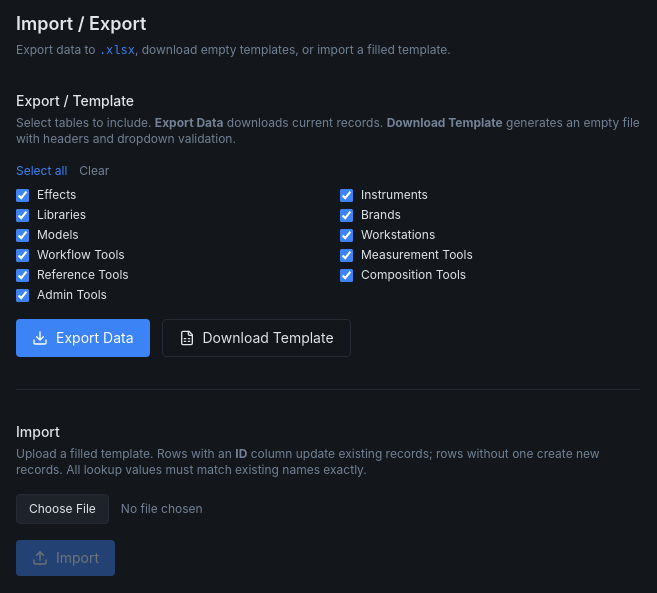
Test: ImportExportPage — table checklist › Export Data button is disabled when no tables are selected
The width and height of the screenshot is (657, 593).
What coordinates should you click on to do the following:
click the button "Clear"
I would click on:
 (94, 171)
Its box is [79,163,109,179].
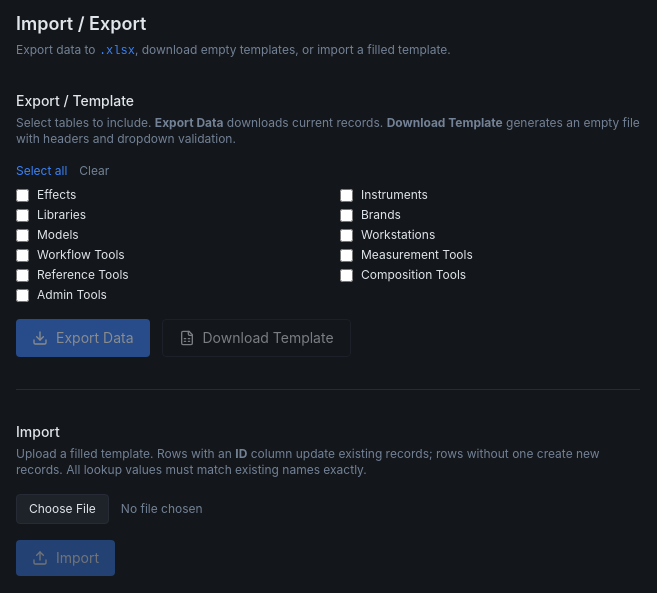
Result: the button "Export Data" is disabled at [16,319,150,357]
